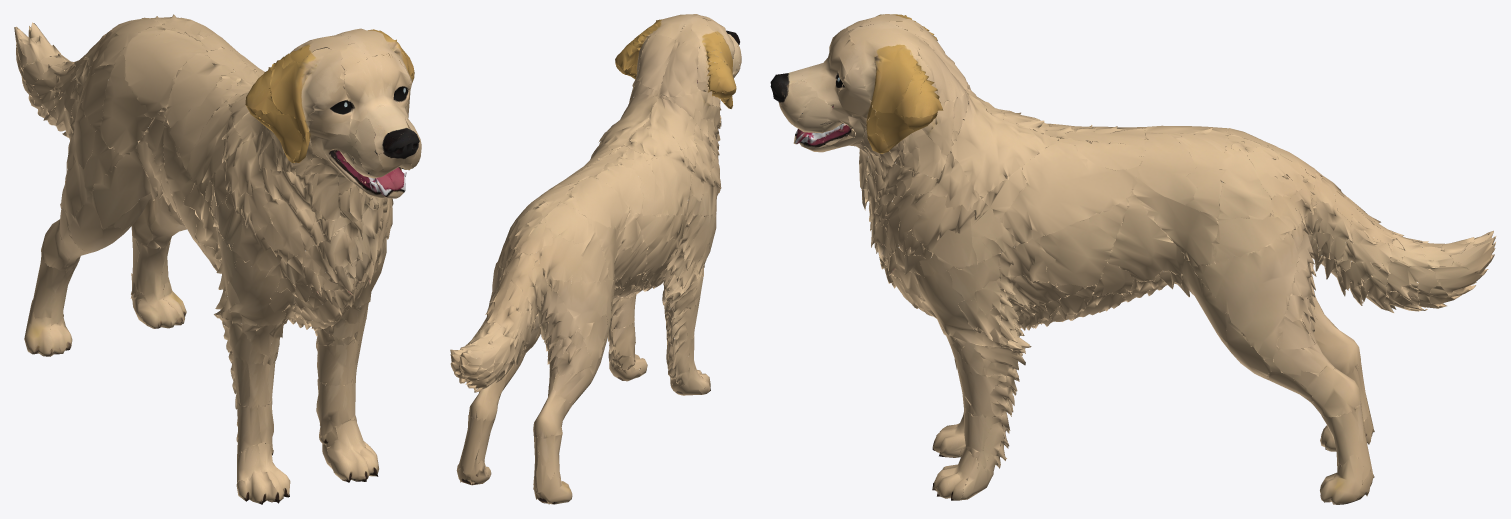
The model's file is perro.glb.
The picture shows the model from 3 angles, left to right: view 1: azimuth 30°, elevation 25°; view 2: azimuth 150°, elevation 25°; view 3: azimuth 270°, elevation 25°; orthographic projection. The views are drawn at different scales.
Parts seen in each view (by area): view 1: Mesh_0; view 2: Mesh_0; view 3: Mesh_0.
Part boxes in pixels (box(x1,y1,x2,y2)): Mesh_0: box(14, 14, 421, 504); Mesh_0: box(450, 14, 741, 504); Mesh_0: box(770, 14, 1496, 504).
Bounding box in the file's own units: 0.2291 × 0.6307 × 0.9284.
Materials: 1 (1 with a texture image).
